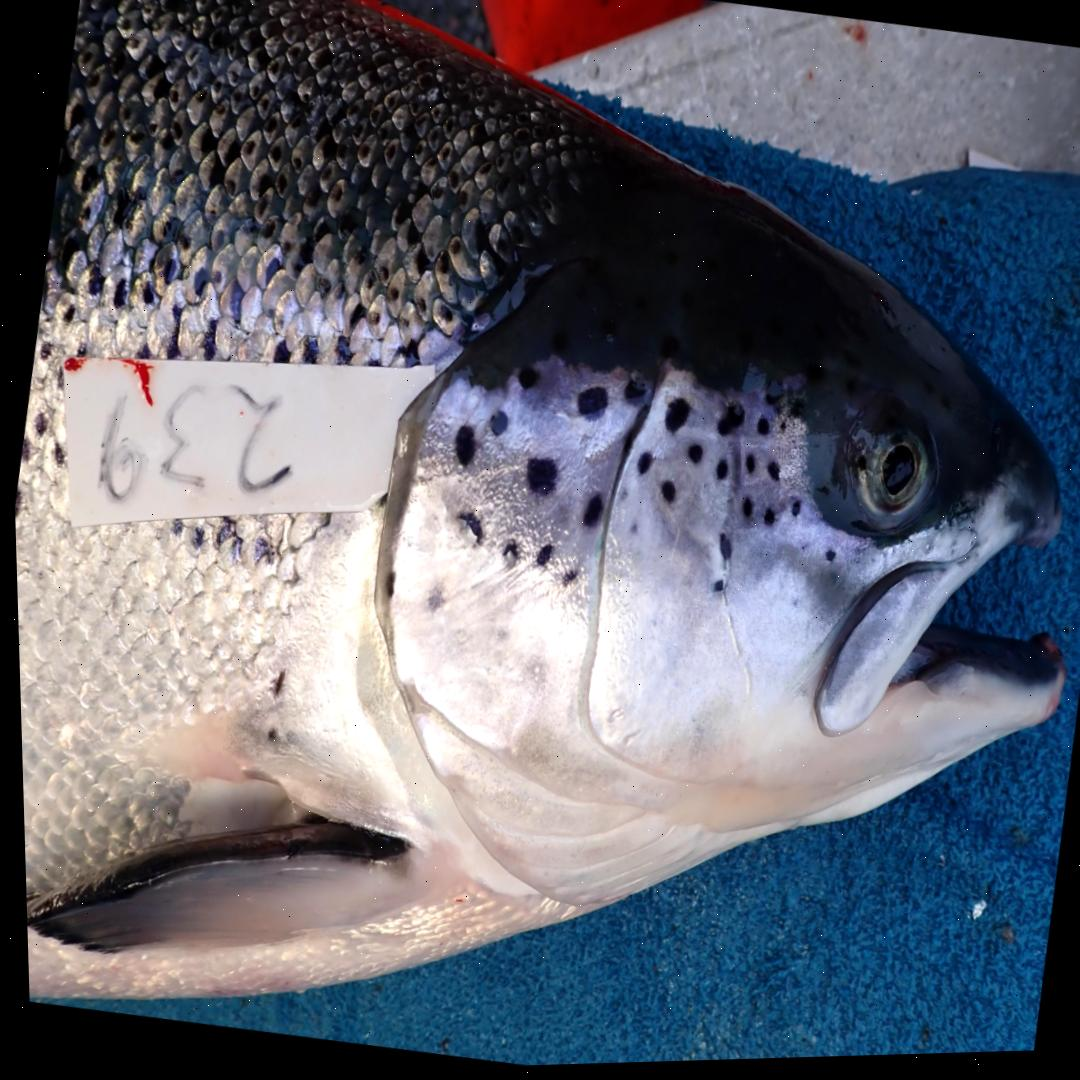spot: (522, 460, 552, 498), (573, 389, 605, 422), (713, 405, 741, 439), (453, 514, 479, 549), (661, 400, 686, 435), (450, 428, 472, 467), (578, 497, 599, 529), (419, 586, 441, 615), (620, 382, 643, 406), (486, 412, 505, 438), (498, 542, 514, 572), (515, 368, 535, 392), (531, 547, 548, 570), (657, 483, 672, 507), (714, 537, 728, 562), (633, 455, 648, 476), (557, 571, 574, 589), (684, 447, 698, 468), (711, 463, 725, 484), (753, 420, 767, 439), (763, 466, 776, 485), (758, 511, 771, 529), (382, 572, 390, 601), (738, 501, 748, 521), (707, 582, 720, 597), (741, 458, 751, 477), (787, 504, 797, 521), (821, 552, 830, 567), (626, 525, 634, 536), (776, 423, 783, 435), (616, 492, 623, 501)
